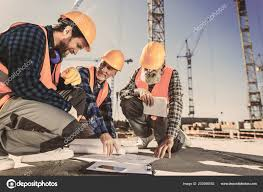helmet: (65, 9, 97, 49), (143, 41, 164, 69), (104, 51, 124, 71)
vest: (1, 23, 56, 99), (138, 73, 179, 113), (89, 80, 113, 116)
